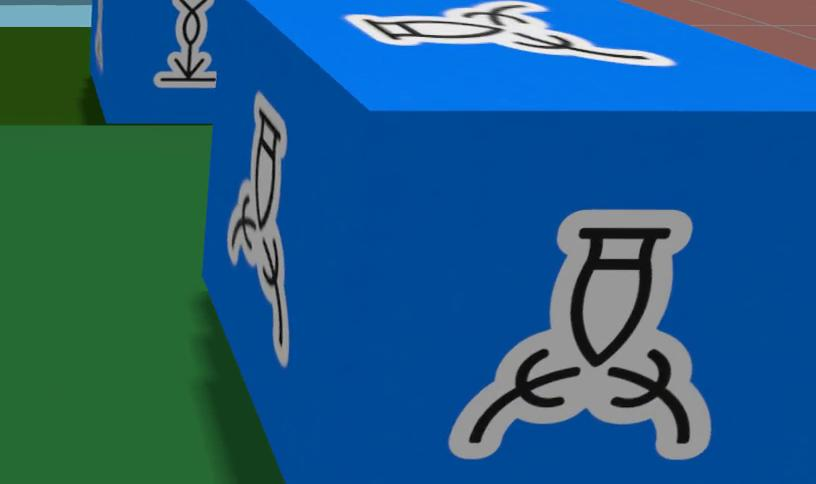KFS_REAL: (200, 0, 815, 483), (448, 209, 711, 459), (342, 1, 674, 65), (89, 0, 230, 123), (229, 91, 287, 366), (154, 0, 215, 88)
